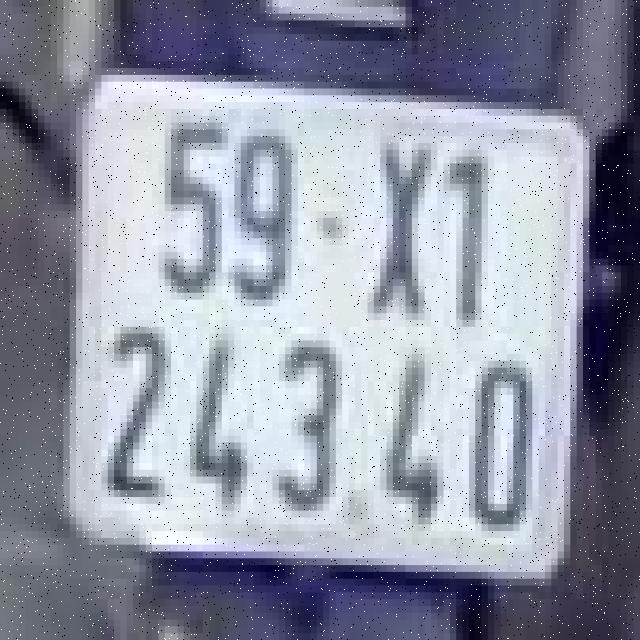0: (459, 361, 542, 538)
1: (437, 119, 494, 330)
2: (88, 320, 184, 517)
3: (279, 334, 342, 531)
4: (371, 347, 446, 545), (190, 330, 260, 514)
5: (152, 95, 228, 300)
9: (231, 126, 301, 303)
X: (355, 122, 437, 334)
